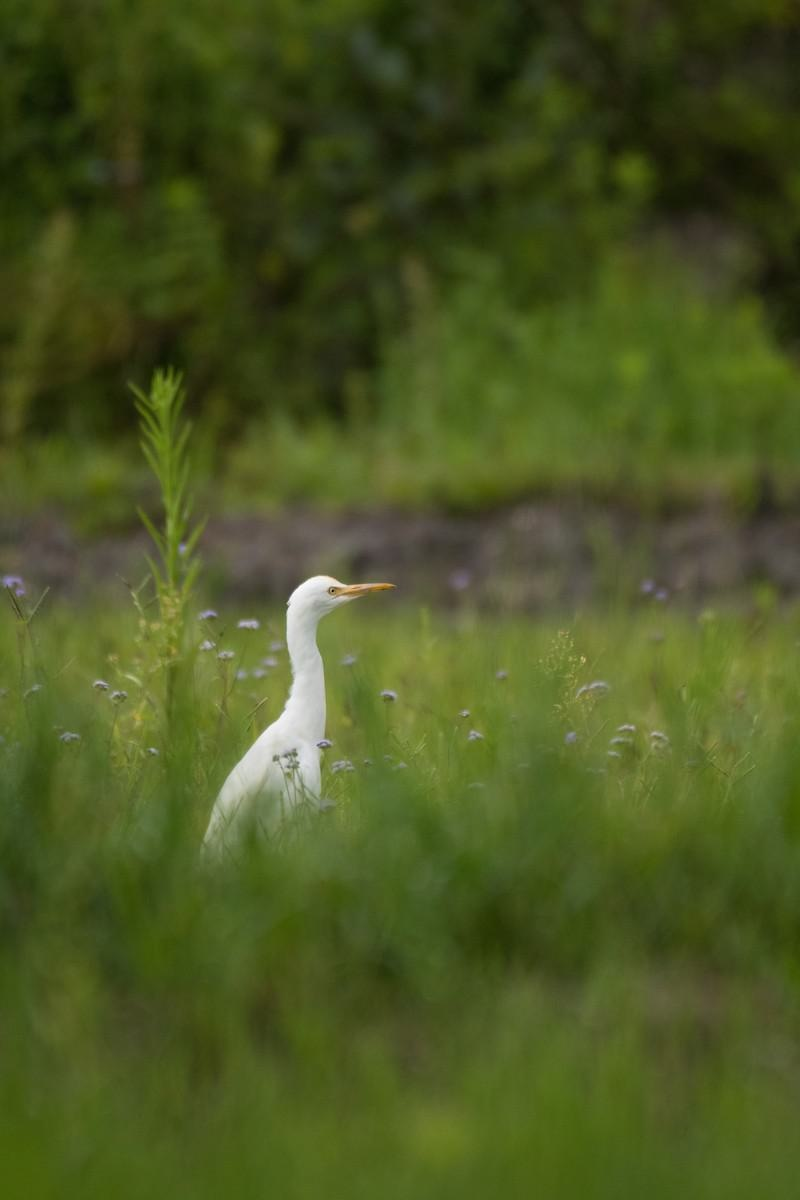egret: (210, 551, 401, 863)
